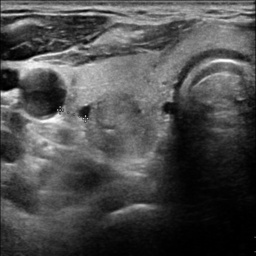mass: (82, 91, 156, 159)
